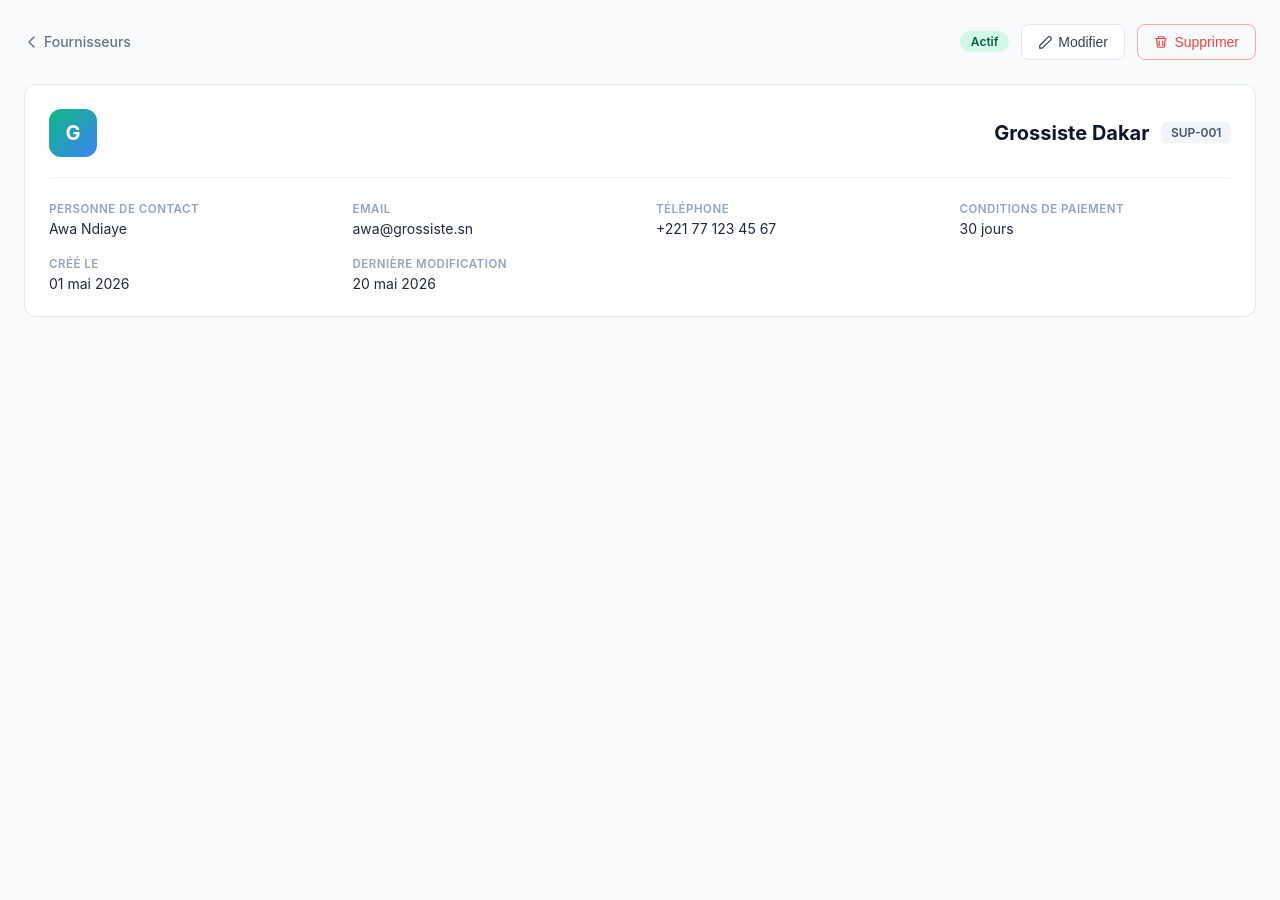
Test: SupplierDetailView › opens the delete confirmation modal
Click the button "Supprimer": point(1196, 42) [1137,24,1256,60]
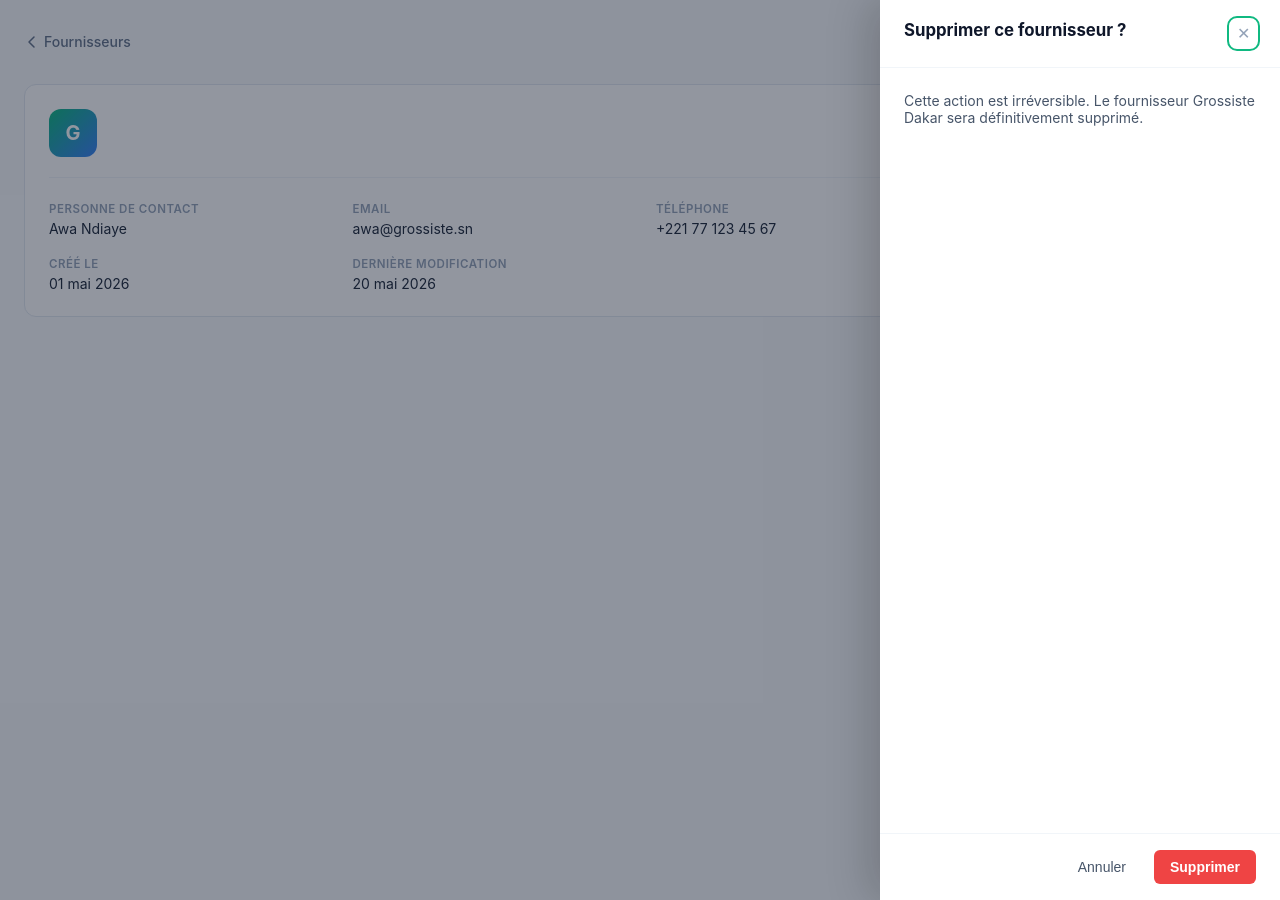
Expected: the text "Supprimer ce fournisseur ?" is shown, [904,20,1126,40]
